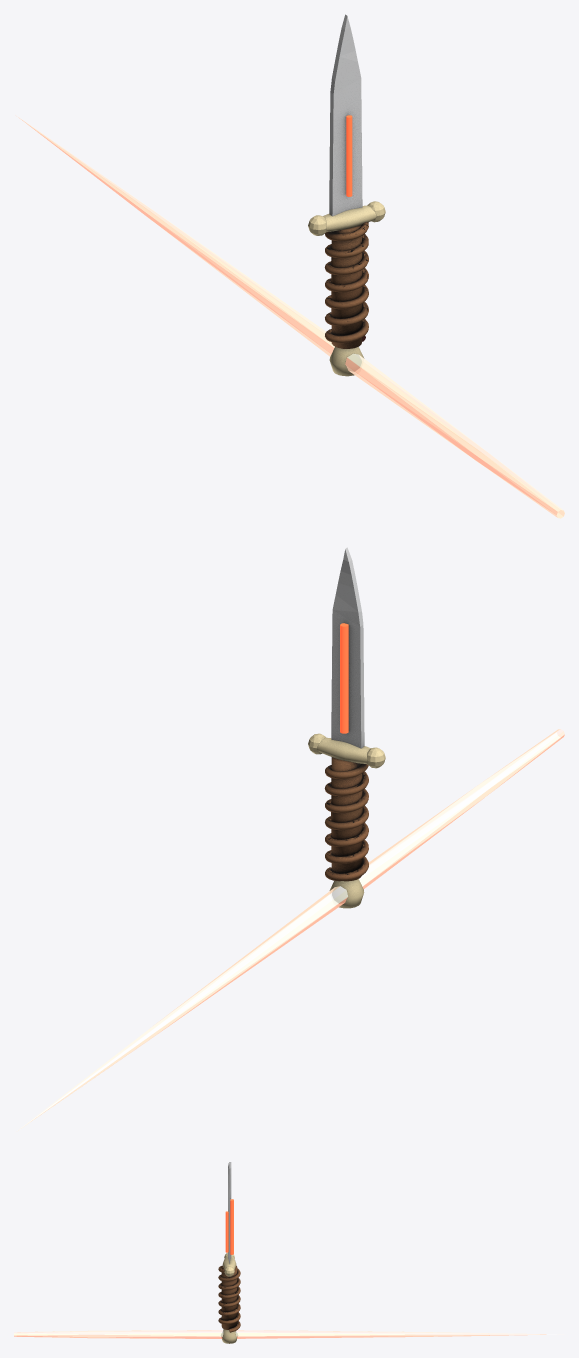
Rendered from arma_faca_excelente.glb.
3 views of the same model, one above another, from view 1: azimuth 30°, elevation 25°; view 2: azimuth 150°, elevation 25°; view 3: azimuth 270°, elevation 25° (orthographic). The views are drawn at different scales.
Visible parts, largest first — view 1: arma_faca_excelente, pomo_gema; view 2: arma_faca_excelente, pomo_gema, lamina_runa2; view 3: pomo_gema, arma_faca_excelente.
Boxes of the visible parts, x1,y1,x2,y2 form: arma_faca_excelente: [308, 14, 385, 376]; pomo_gema: [17, 116, 564, 518]; arma_faca_excelente: [308, 547, 385, 908]; pomo_gema: [16, 729, 564, 1131]; lamina_runa2: [340, 623, 348, 733]; pomo_gema: [14, 1330, 564, 1338]; arma_faca_excelente: [218, 1162, 240, 1343].
Bounding box in the file's own units: 0.0792 × 0.3612 × 1.
Materials: 4 (1 with a texture image).
